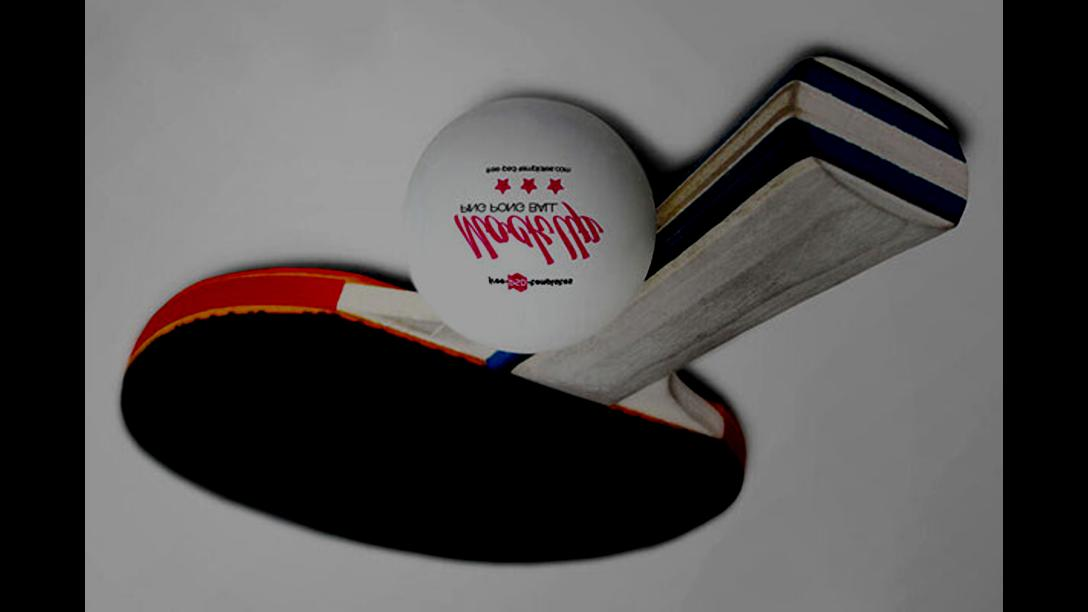Table-Tennis-Ball: (406, 96, 654, 352)
